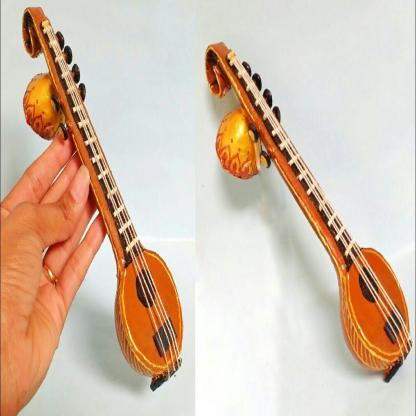Veena: (215, 45, 410, 367), (57, 66, 192, 388)
